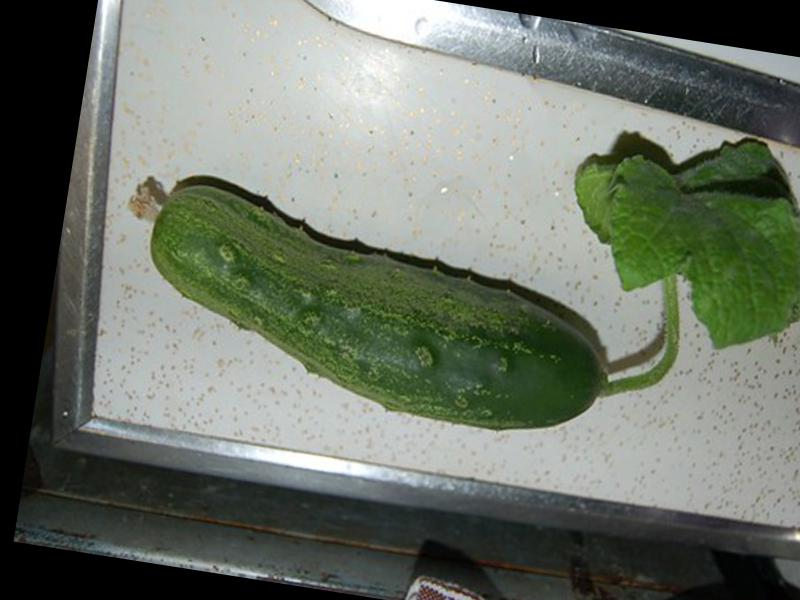Cucumber: (102, 170, 629, 447)
